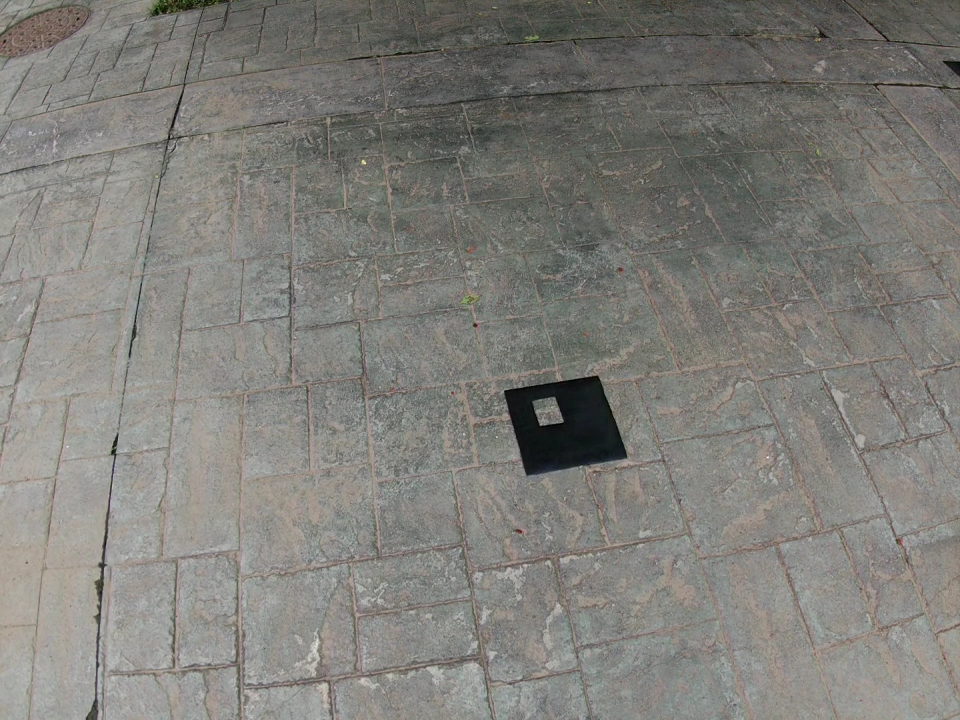qrcode: (504, 375, 628, 475)
